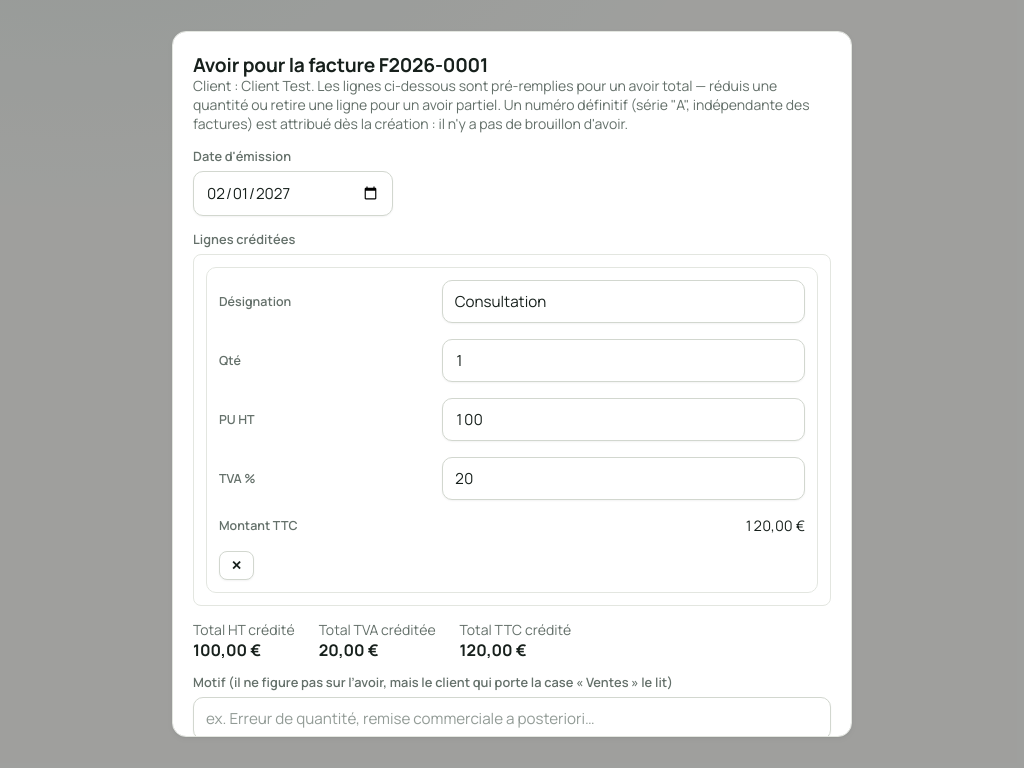
it: FactureAvoirModal — l’avoir d’un dossier basculé › cabinet : l’avoir d’une facture source, daté dans un exercice validé, est refusé avant le clic sous la phrase de la base
The image size is (1024, 768).
Expected: the field showing "Consultation" is shown, [442,280,805,323]
Type "2026-12-31" into the date field with id "avoir-date" at coordinates (293, 193), box [193,171,393,216]
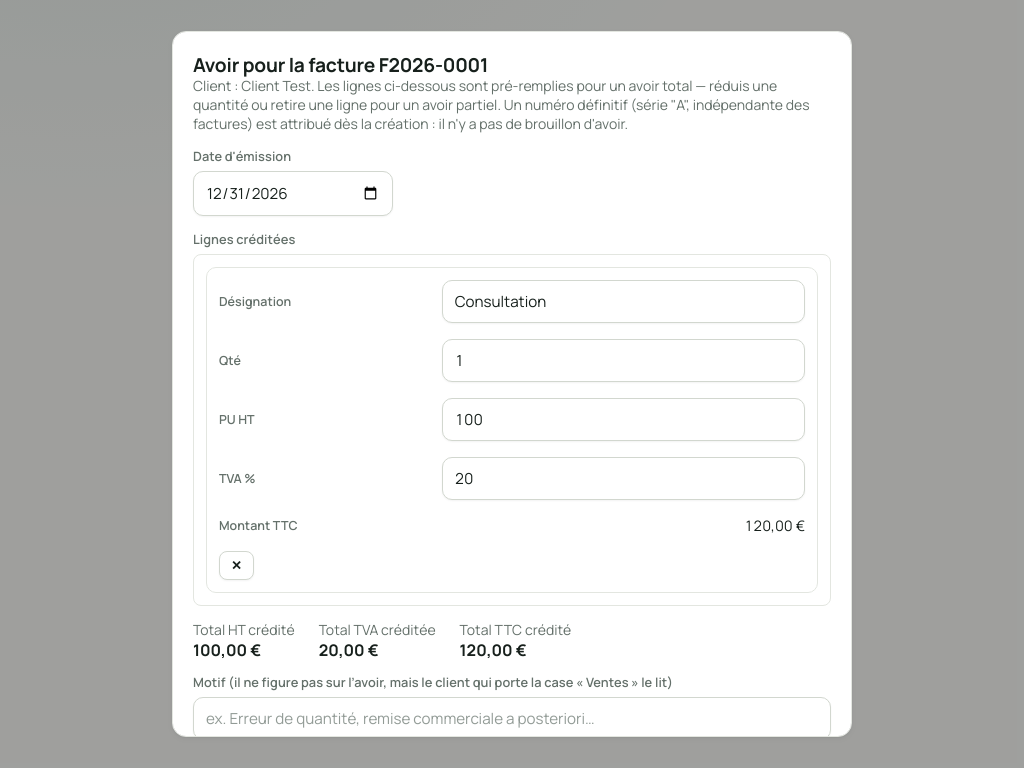
Type "2027-01-04" into the date field with id "avoir-date" at coordinates (293, 193), box [193,171,393,216]
(page scrolled)
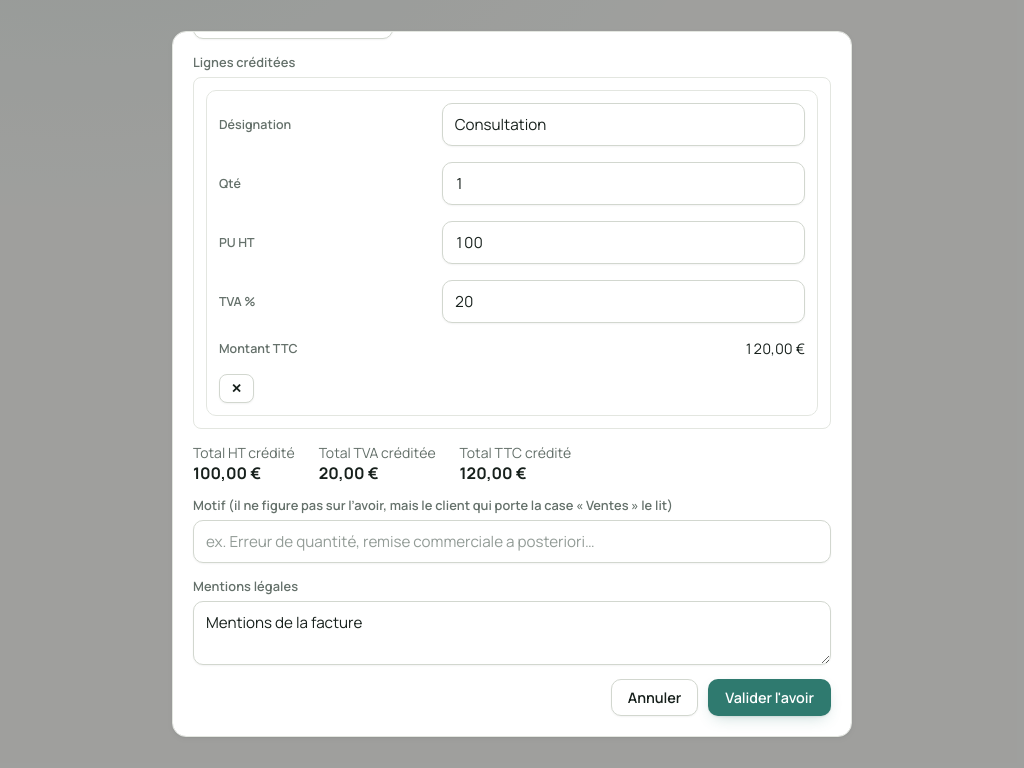
Expected: the button "Valider l'avoir" is enabled, [708,679,831,716]
